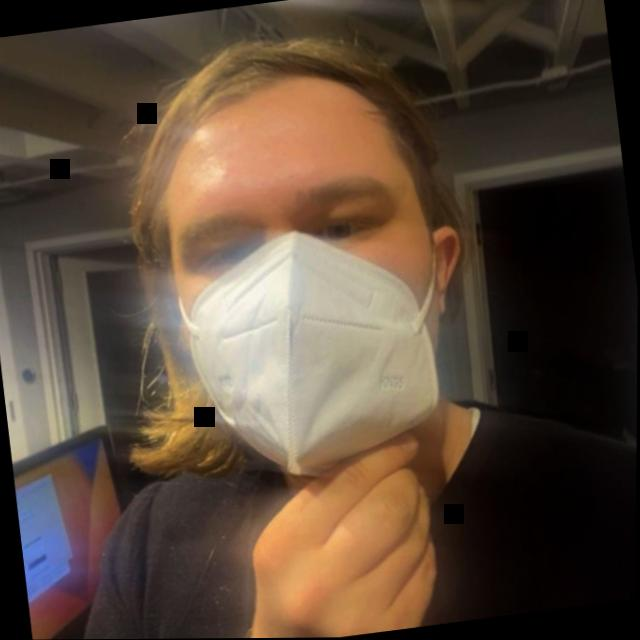Mask: (79, 0, 532, 489)
